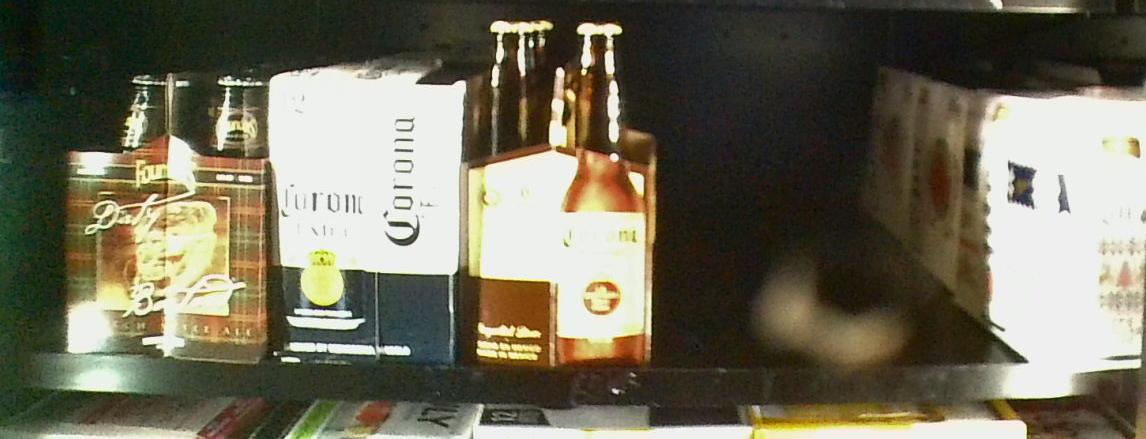bottle: (467, 18, 649, 365), (60, 73, 272, 361), (265, 70, 456, 370)
